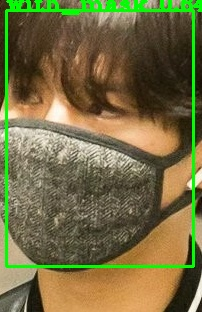with_mask: (1, 2, 202, 312)
